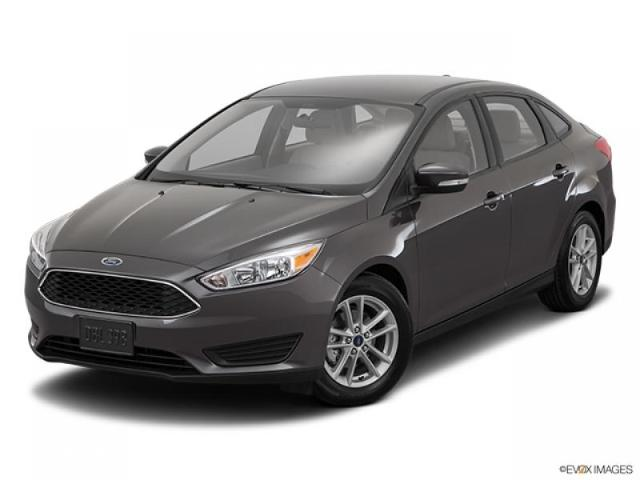ford: (24, 74, 616, 406)
